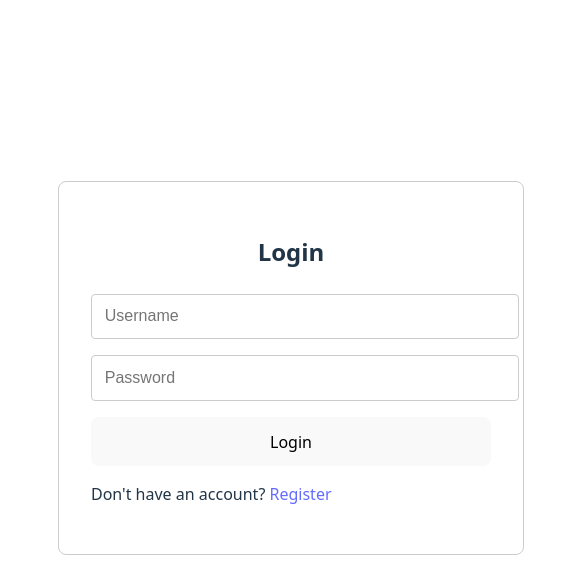
it: Dashboard Logout Flow › logout button is rendered in dashboard
Type "testuser" into the field with placeholder "Username" at (305, 316), box x1=91 y1=294 x2=519 y2=339
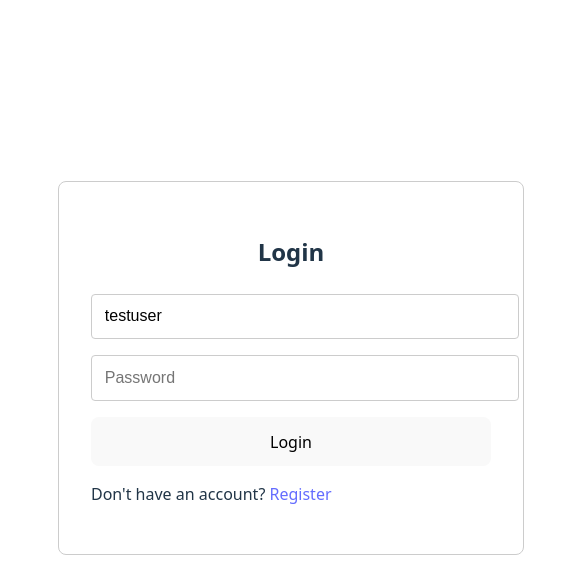
Type "testpass" into the password field with placeholder "Password" at (305, 378), box x1=91 y1=355 x2=519 y2=401
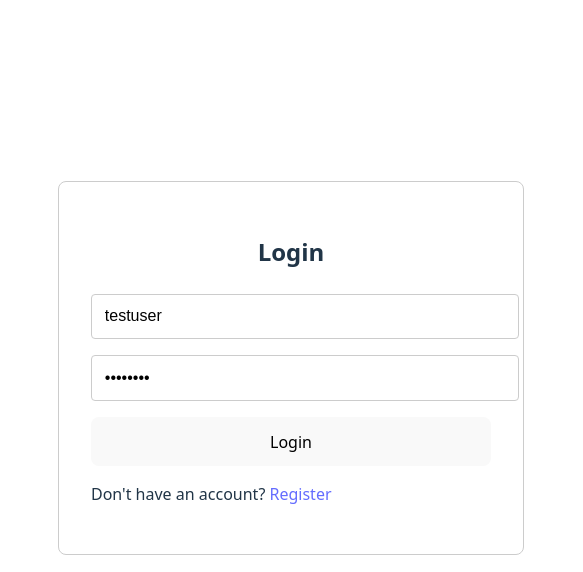
Click the button "Login" at (291, 442), box x1=91 y1=417 x2=491 y2=466
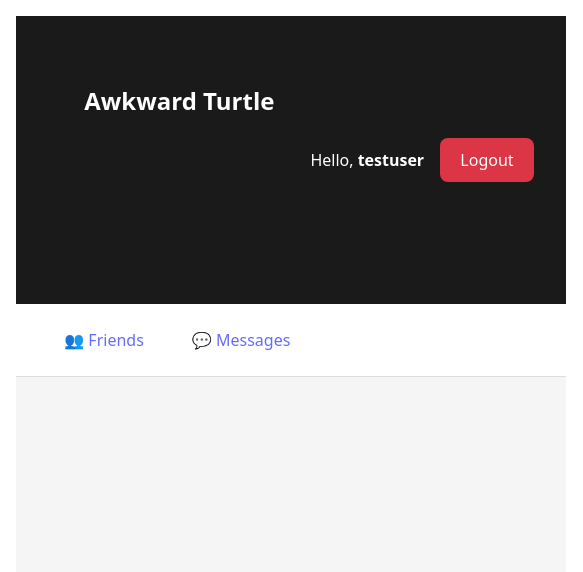
Now the text "testuser" is shown, box x1=358 y1=149 x2=424 y2=171
Now the button "Logout" is shown, box x1=440 y1=138 x2=534 y2=182
